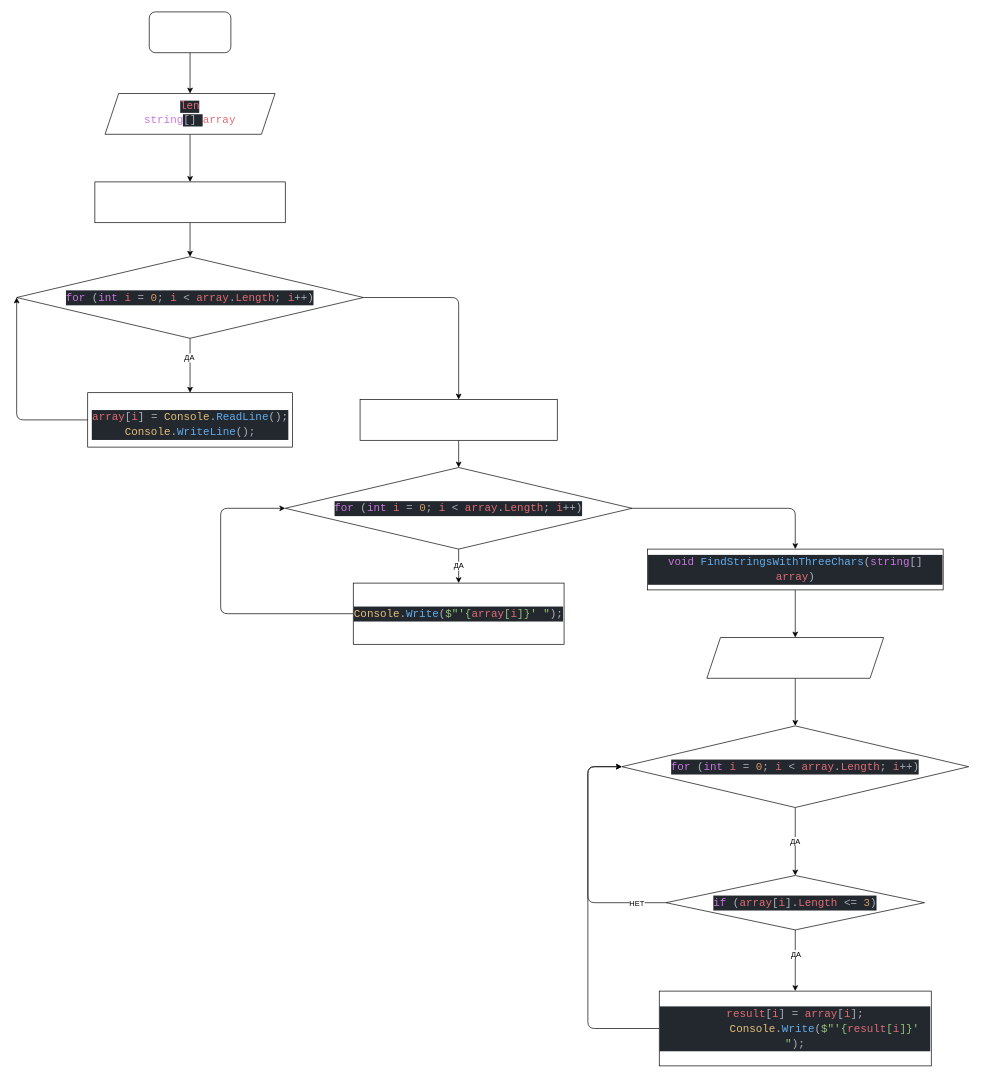
This 981x1078 diagram has some shape labels left out. Each missing label, with the box of its shape:
string [] result: (706, 637, 884, 678)
void FillArray ( string [] array ): (94, 181, 285, 223)
void PrintArray ( string [] array ): (359, 399, 557, 440)
СТАРТ: (149, 11, 231, 53)
